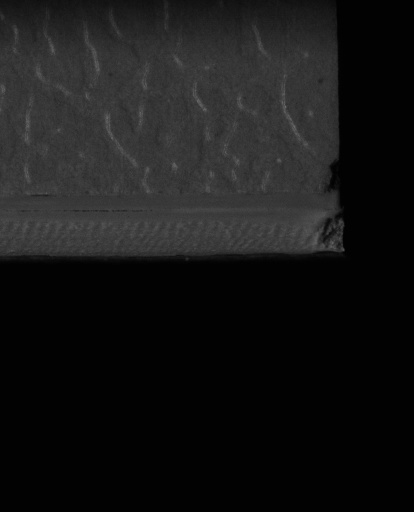bengque: (317, 211, 348, 254), (322, 155, 343, 197)
